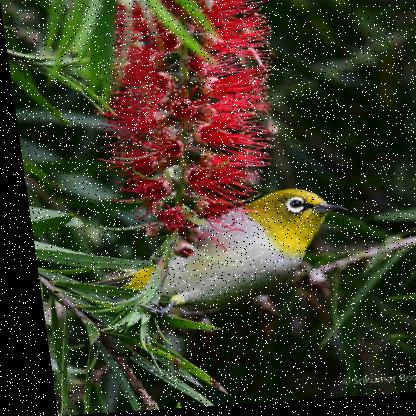Burung: (102, 190, 351, 321)
